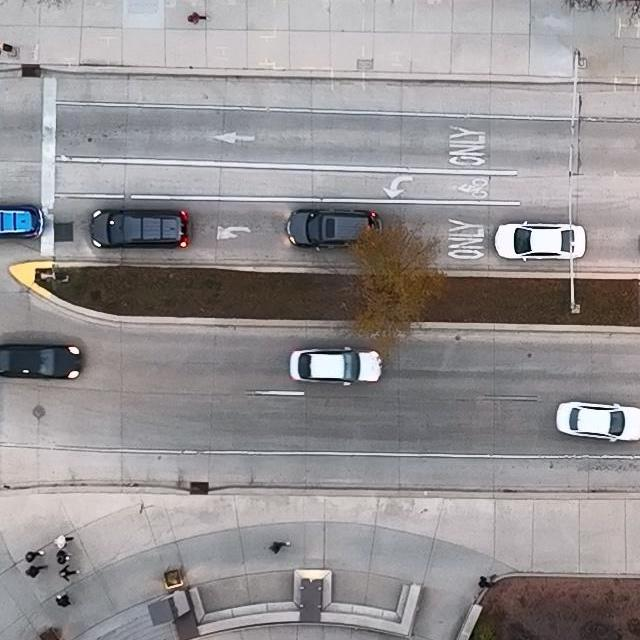car: (286, 208, 381, 251), (90, 208, 188, 249), (494, 220, 586, 263), (556, 400, 640, 444), (289, 346, 382, 385), (0, 342, 83, 381), (0, 203, 46, 240)
